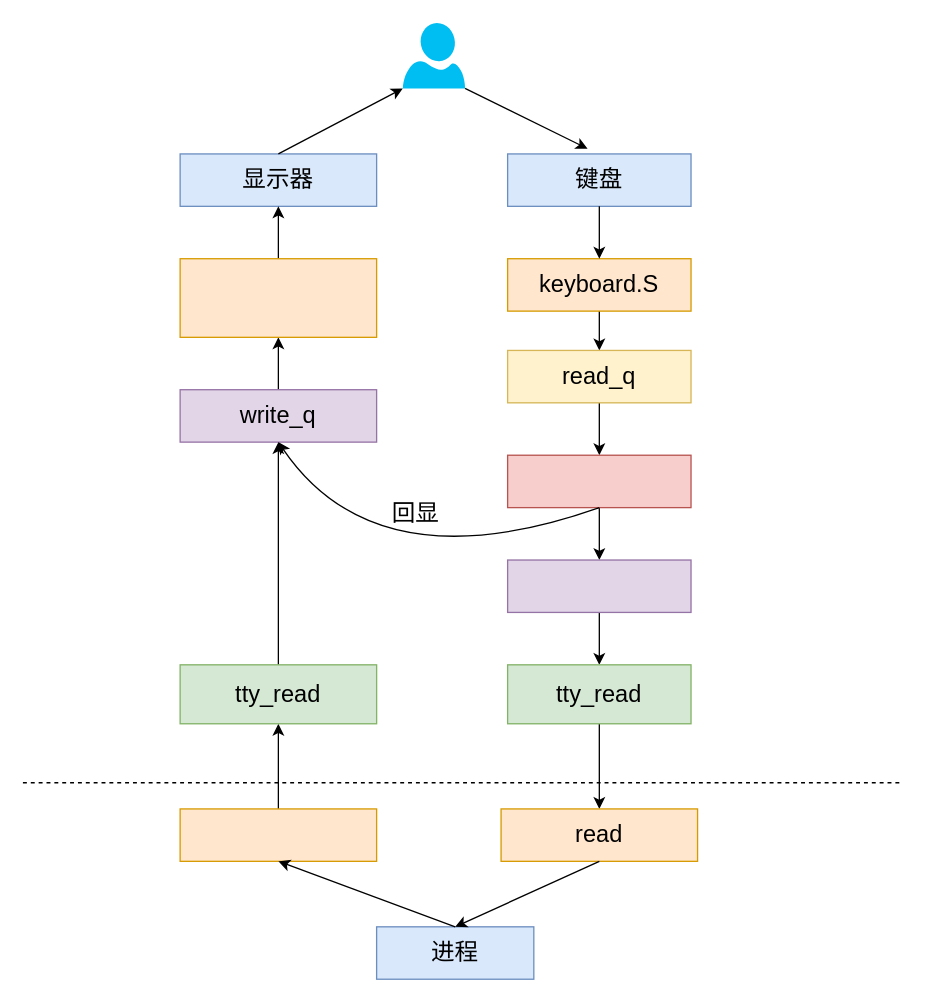
This 925x1002 diagram has some shape labels left out. The box of each missing label's shape, as (x1, y1, x2, y2) in pixels:
con_write/rs_write: (179, 257, 377, 337)
copy_to_cook: (506, 454, 691, 508)
secondary: (506, 559, 691, 612)
write: (179, 808, 377, 861)
